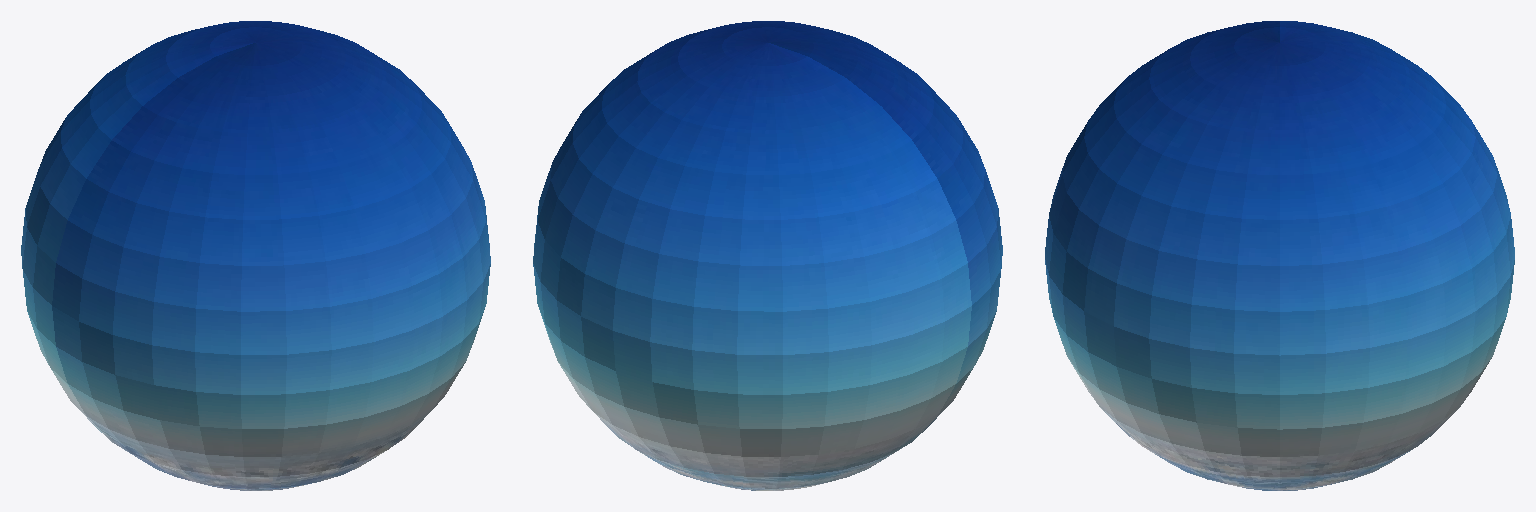
3 renders of one model, left to right at view 1: azimuth 30°, elevation 25°; view 2: azimuth 150°, elevation 25°; view 3: azimuth 270°, elevation 25°, orthographic.
Parts seen in each view (by area): view 1: 球; view 2: 球; view 3: 球.
Boxes of the visible parts, x1=… form: 球: x1=21, y1=21, x2=490, y2=490; 球: x1=533, y1=21, x2=1002, y2=490; 球: x1=1045, y1=21, x2=1514, y2=490.
Size of the model in its own units: 600 by 600 by 600.
1 materials, 1 textured.